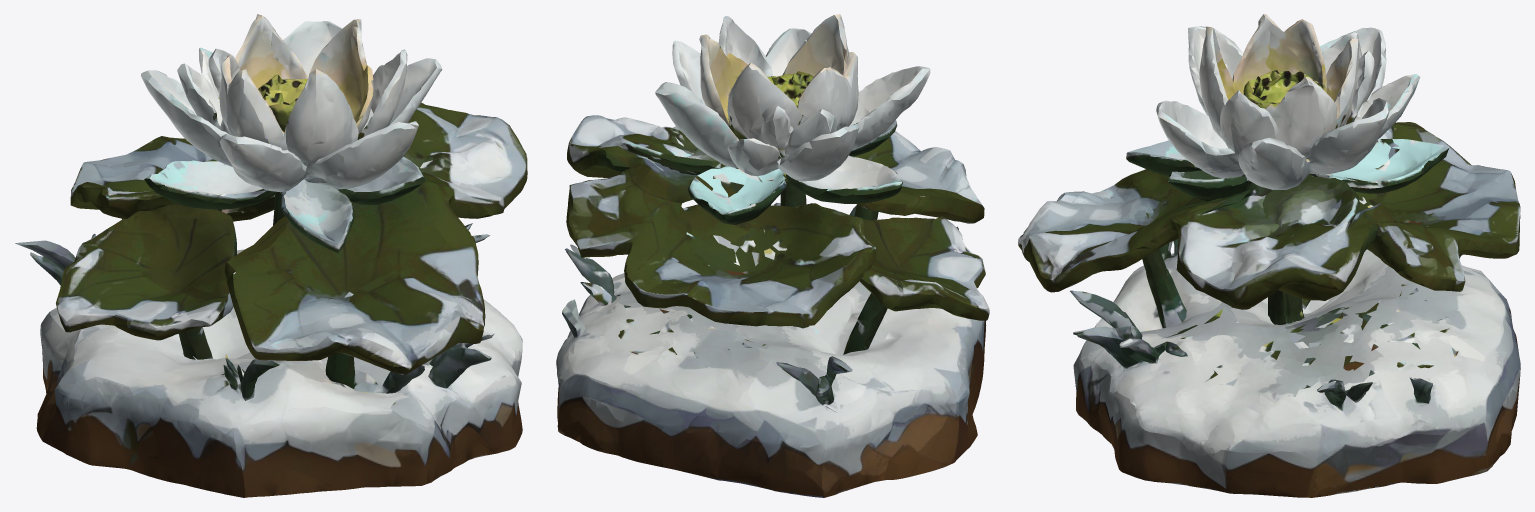
File: snow_lotus_node.glb
3 renders of one model, left to right at view 1: azimuth 30°, elevation 25°; view 2: azimuth 150°, elevation 25°; view 3: azimuth 270°, elevation 25°, orthographic. The views are drawn at different scales.
Parts seen in each view (by area): view 1: snow_lotus_node; view 2: snow_lotus_node; view 3: snow_lotus_node.
Part boxes in pixels (bbox=[...]): snow_lotus_node: bbox=[15, 14, 527, 497]; snow_lotus_node: bbox=[556, 14, 989, 497]; snow_lotus_node: bbox=[1018, 14, 1520, 497].
Size of the model in its own units: 0.492 by 0.4091 by 0.5.
Materials: 1 (1 with a texture image).
